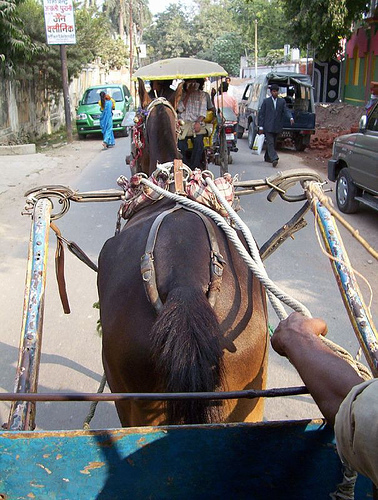horse: (93, 74, 274, 431)
